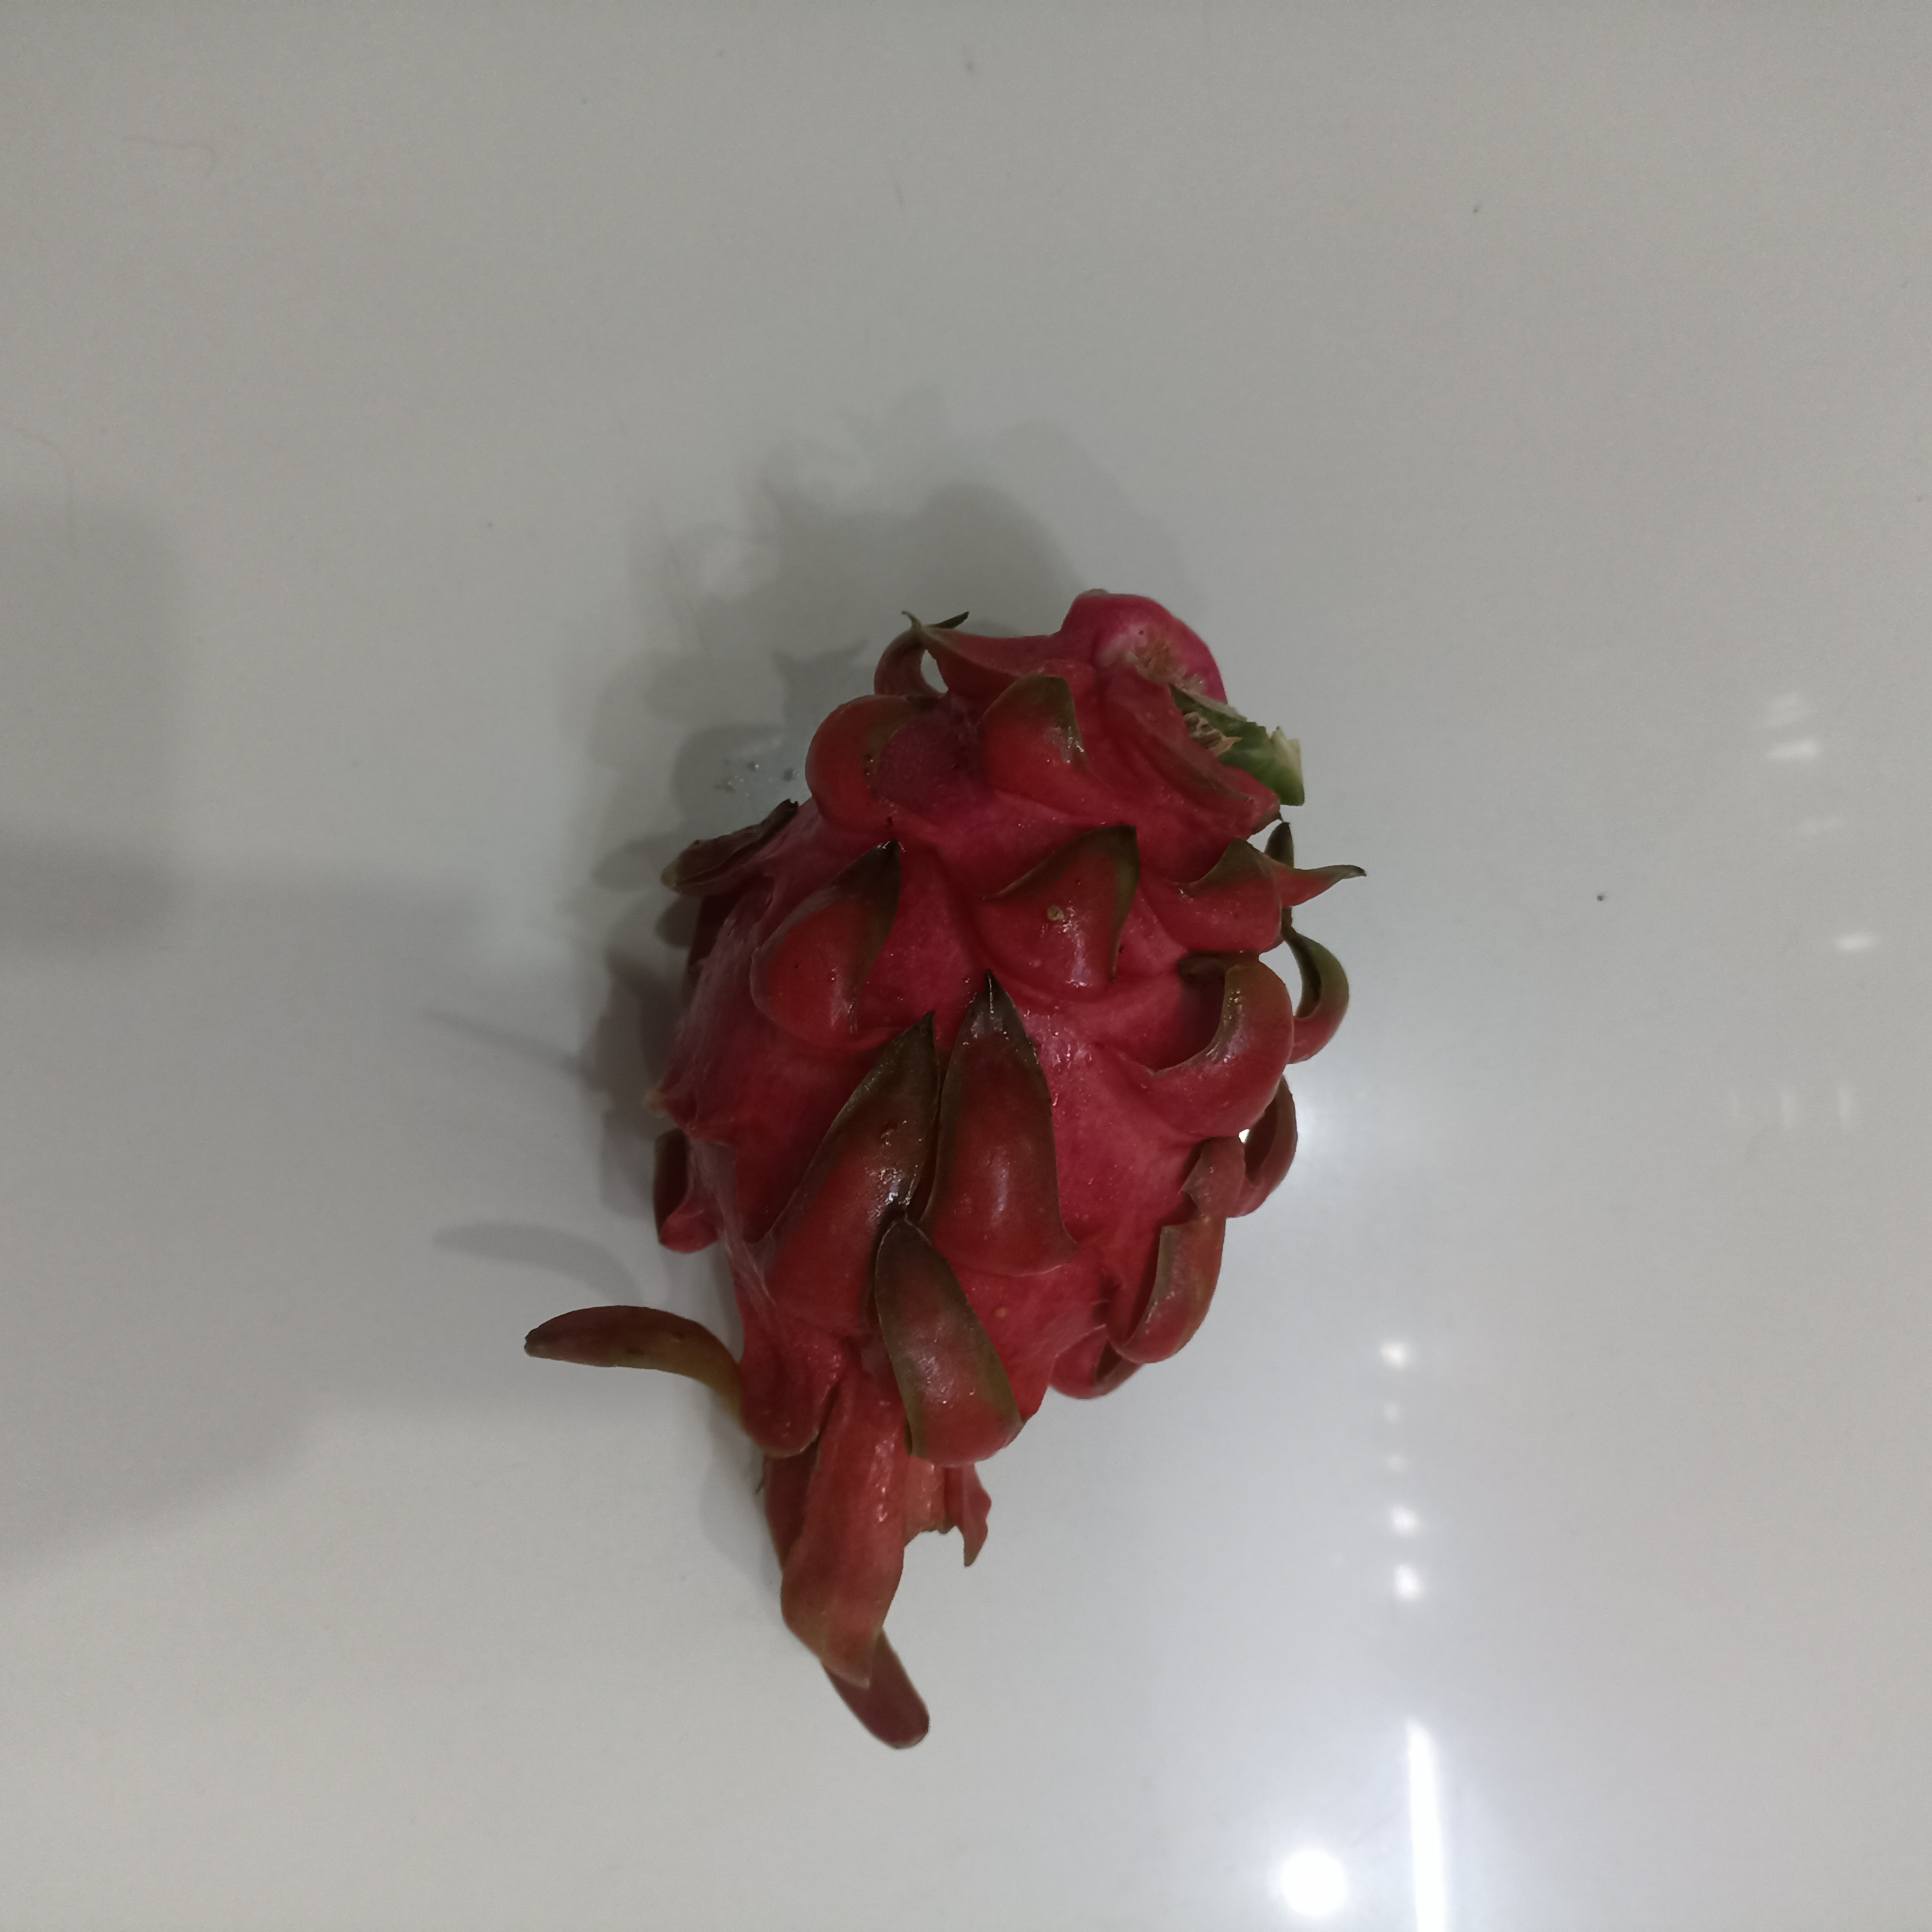Thanh long: (698, 617, 1262, 1391)
